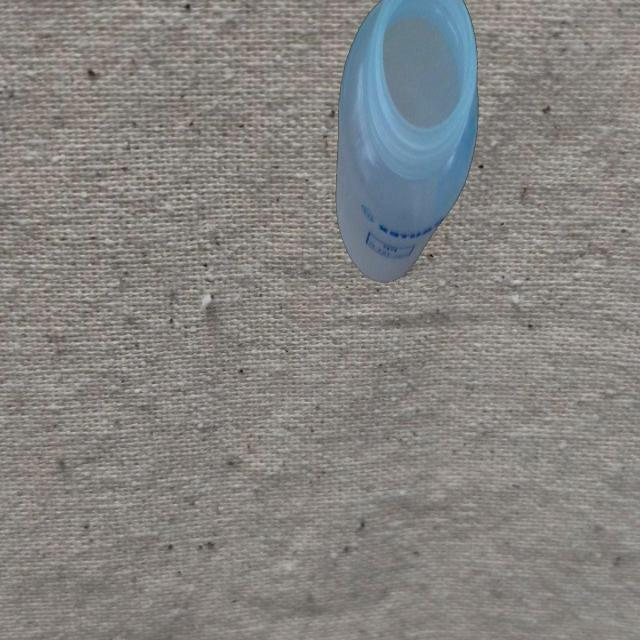bottle: (334, 0, 482, 287)
